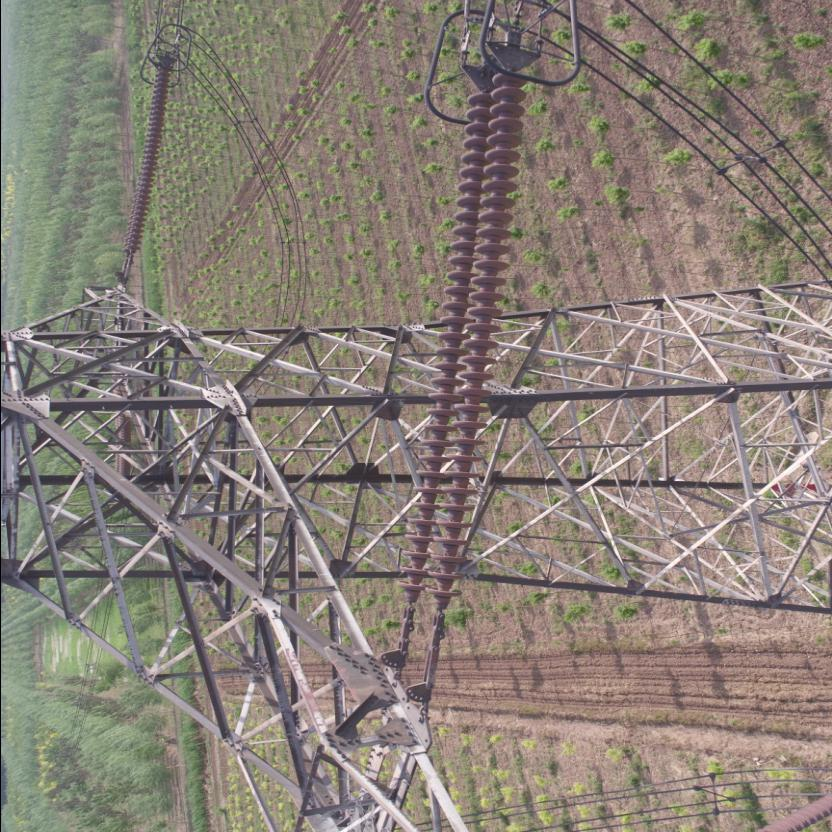insulator: (392, 56, 530, 640), (119, 54, 170, 268)
